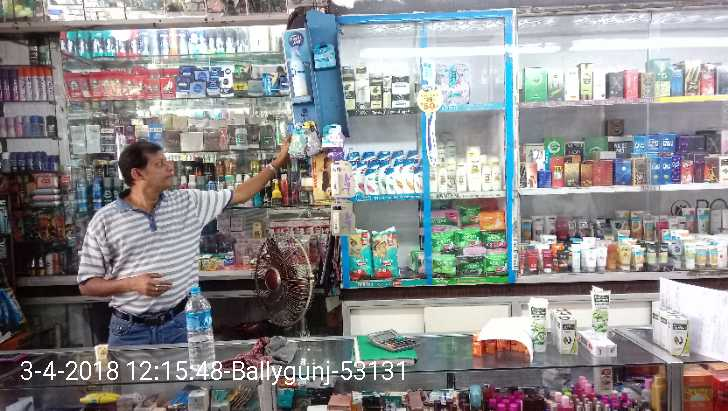ambipureVesus: (285, 31, 311, 102), (290, 122, 320, 157), (315, 42, 335, 70), (324, 124, 342, 148)
venus: (449, 62, 470, 100)
